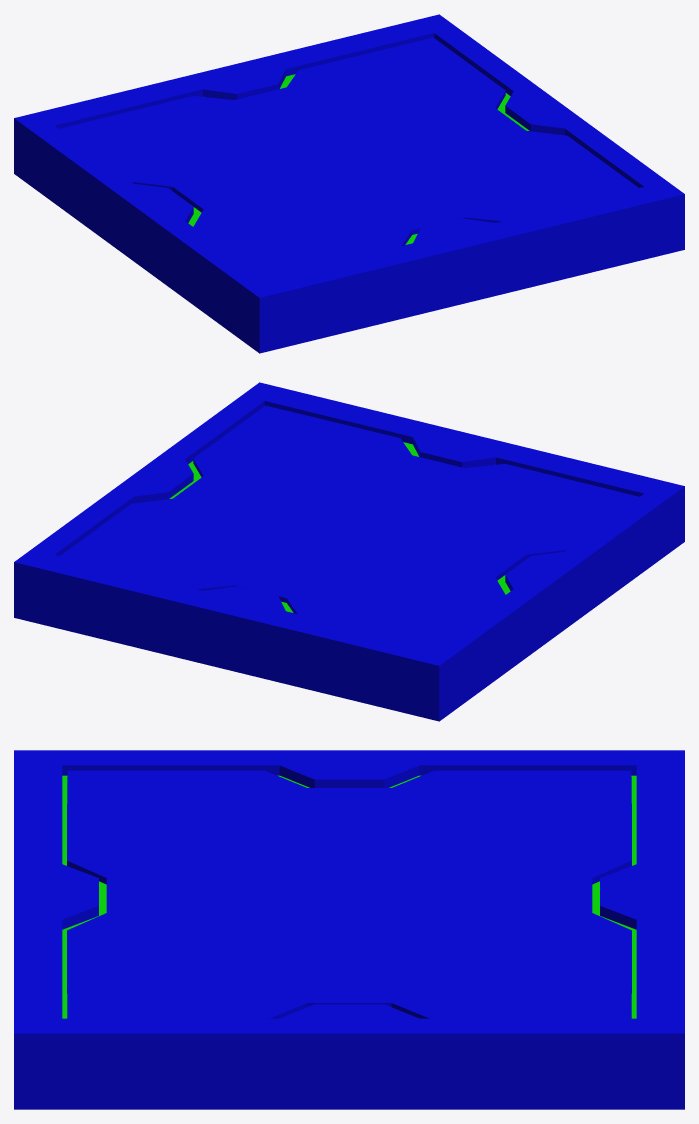
File: SM_Floor.fbx
3 renders of one model, top to bottom at view 1: azimuth 30°, elevation 25°; view 2: azimuth 150°, elevation 25°; view 3: azimuth 270°, elevation 25°, orthographic. The views are drawn at different scales.
Visible parts, largest first — view 1: pCube6; view 2: pCube6; view 3: pCube6.
Boxes of the visible parts, x1,y1,x2,y2 form: pCube6: (14,14,684,353); pCube6: (14,382,684,721); pCube6: (14,750,684,1109).
Size of the model in its own units: 2 by 0.25 by 2.
